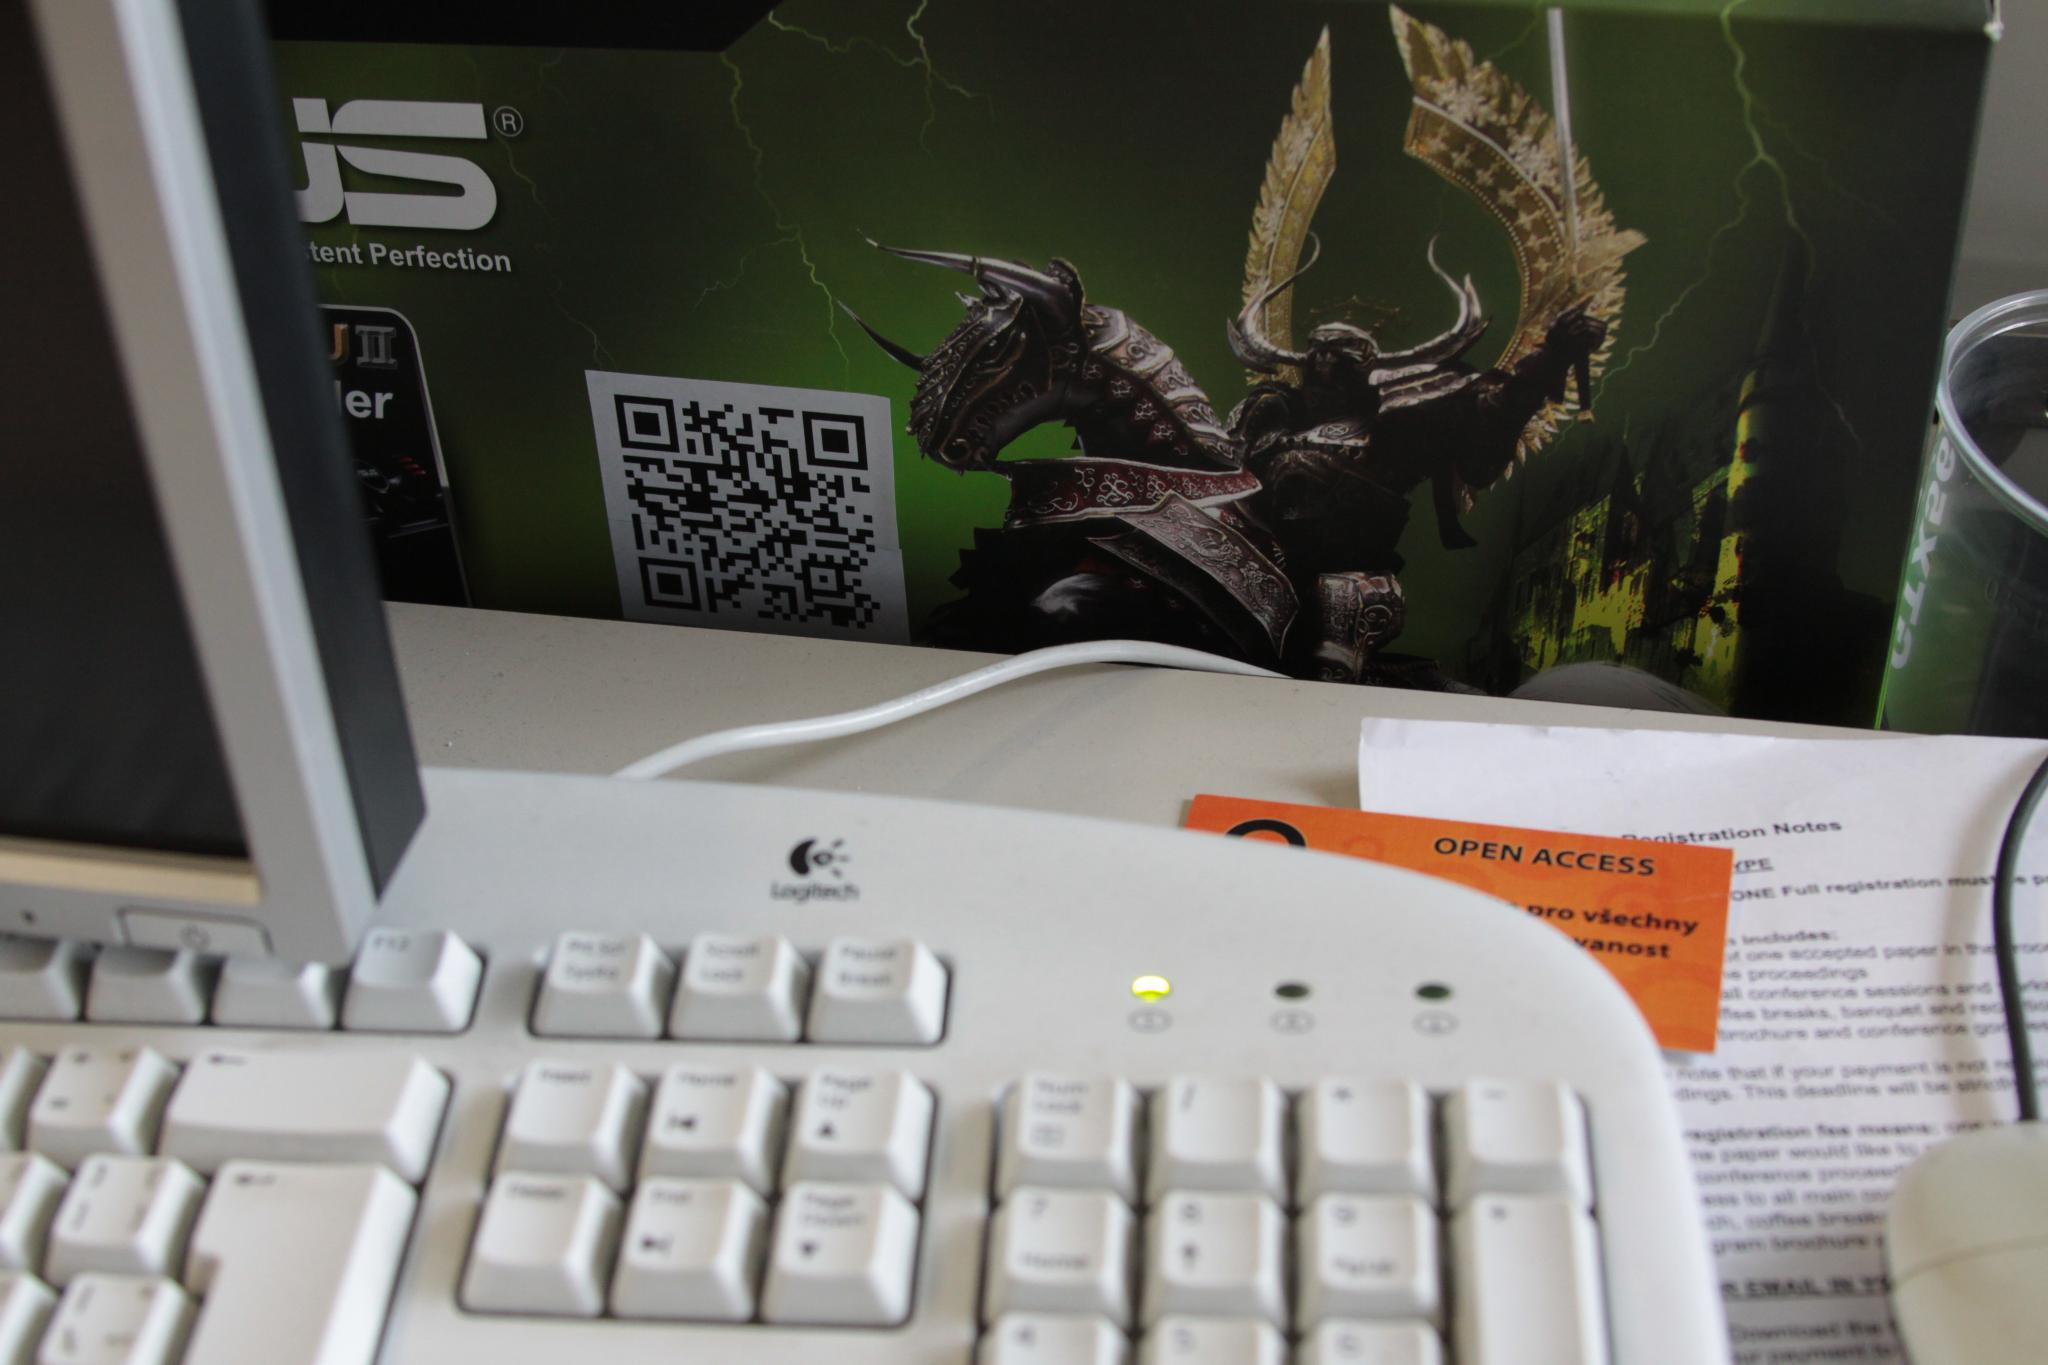Finder pattern: (605, 379, 690, 459), (802, 404, 876, 475), (626, 556, 707, 620)
